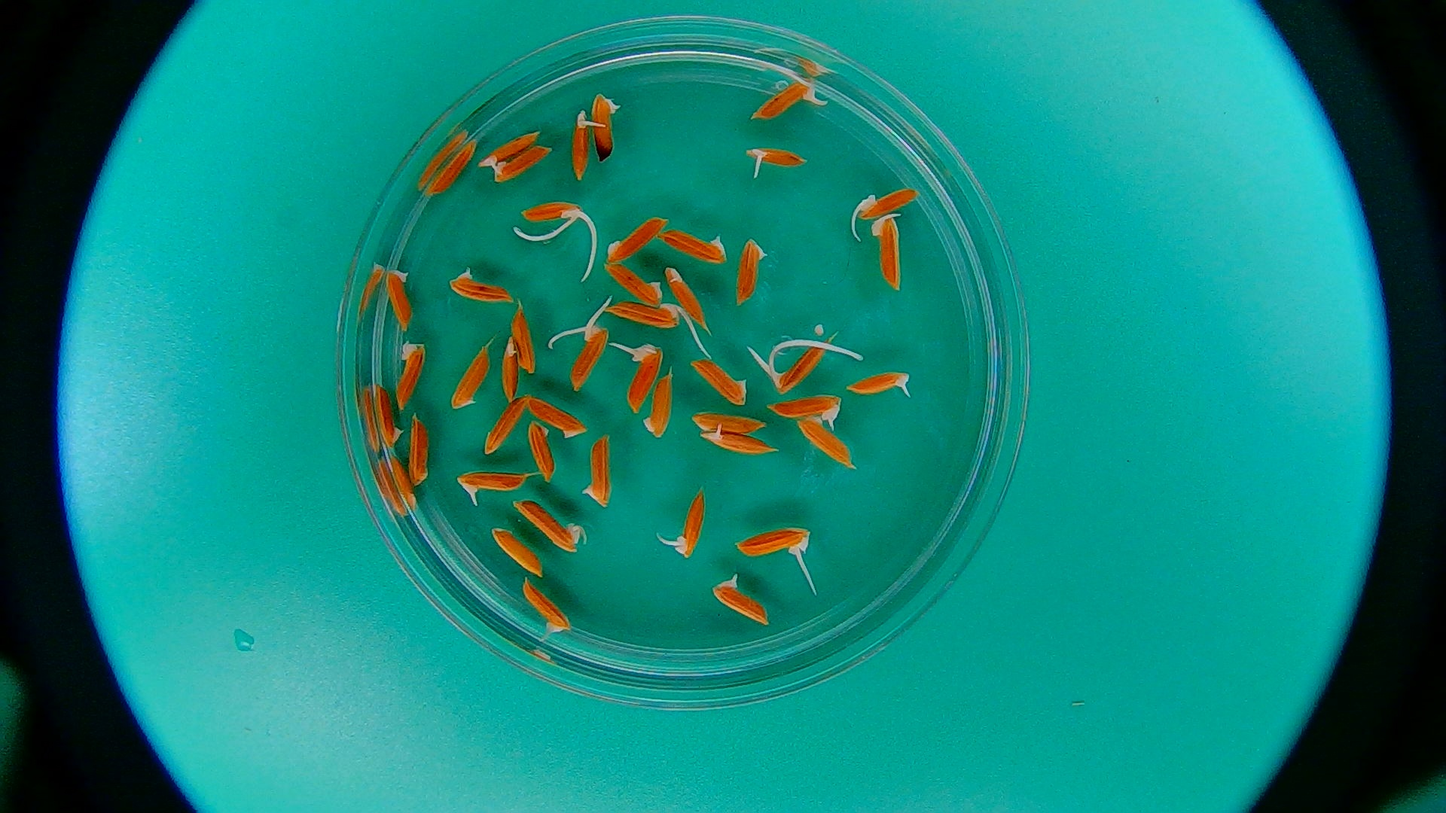no: (799, 411, 857, 470), (422, 138, 477, 196), (526, 395, 593, 439), (606, 214, 670, 260), (580, 432, 615, 513), (688, 357, 747, 405), (448, 343, 490, 410), (662, 269, 706, 327), (490, 528, 541, 576), (604, 261, 662, 303), (592, 90, 624, 165), (449, 266, 512, 303), (486, 399, 525, 456), (642, 373, 674, 441), (481, 127, 537, 165), (395, 342, 426, 410), (734, 237, 764, 306), (383, 268, 413, 334), (496, 149, 553, 181), (371, 384, 400, 446), (386, 452, 417, 510), (526, 422, 554, 483), (409, 415, 432, 486), (512, 308, 536, 373), (691, 413, 765, 432), (500, 337, 520, 401)
yes: (512, 498, 581, 555), (773, 340, 834, 394), (657, 228, 728, 269), (520, 579, 571, 634), (700, 421, 780, 456), (627, 345, 664, 417), (569, 326, 609, 391), (671, 487, 707, 558), (766, 394, 844, 426), (713, 580, 768, 625), (734, 525, 810, 556), (856, 185, 919, 222), (752, 83, 818, 118), (608, 301, 684, 330), (874, 215, 905, 286), (568, 107, 596, 183), (844, 371, 912, 399), (458, 471, 527, 498), (517, 199, 582, 227), (744, 147, 810, 169)
